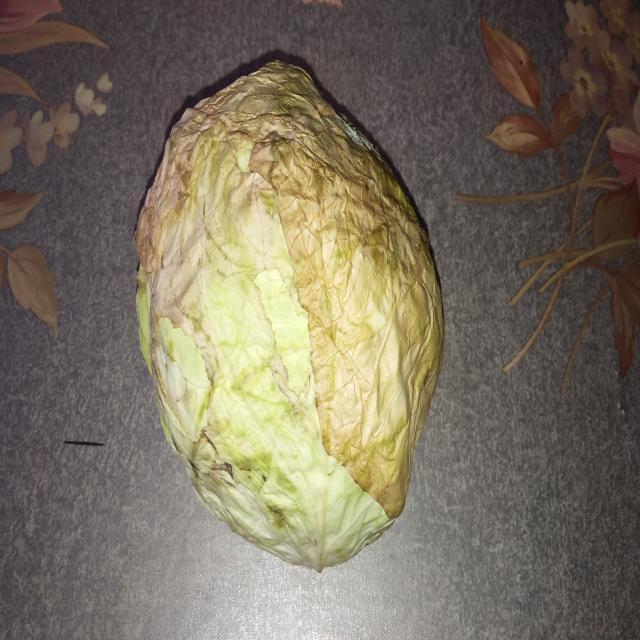cabbage: (128, 48, 449, 572)
